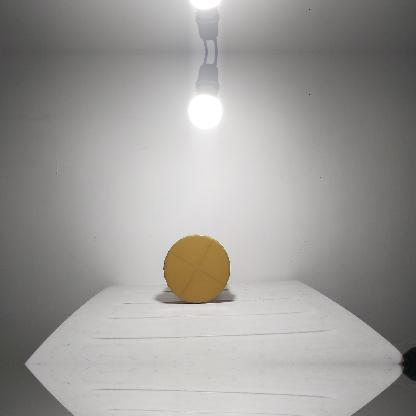Lady-s-Choice: (164, 233, 230, 303)
